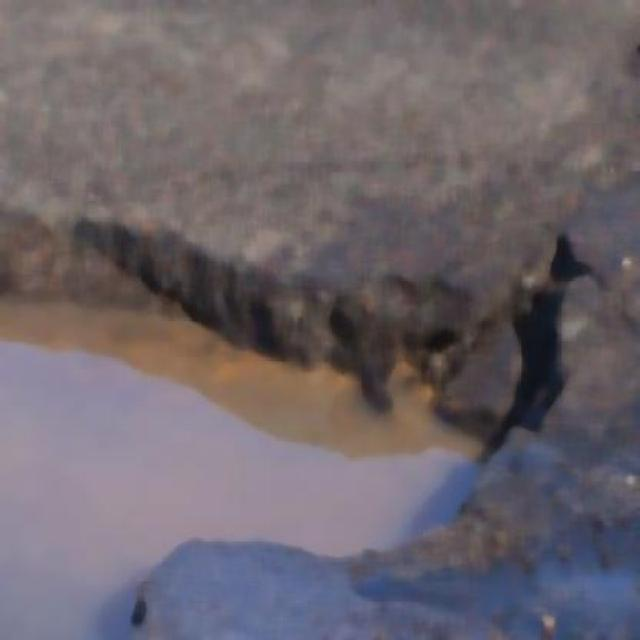Pothole: (0, 238, 455, 638)
